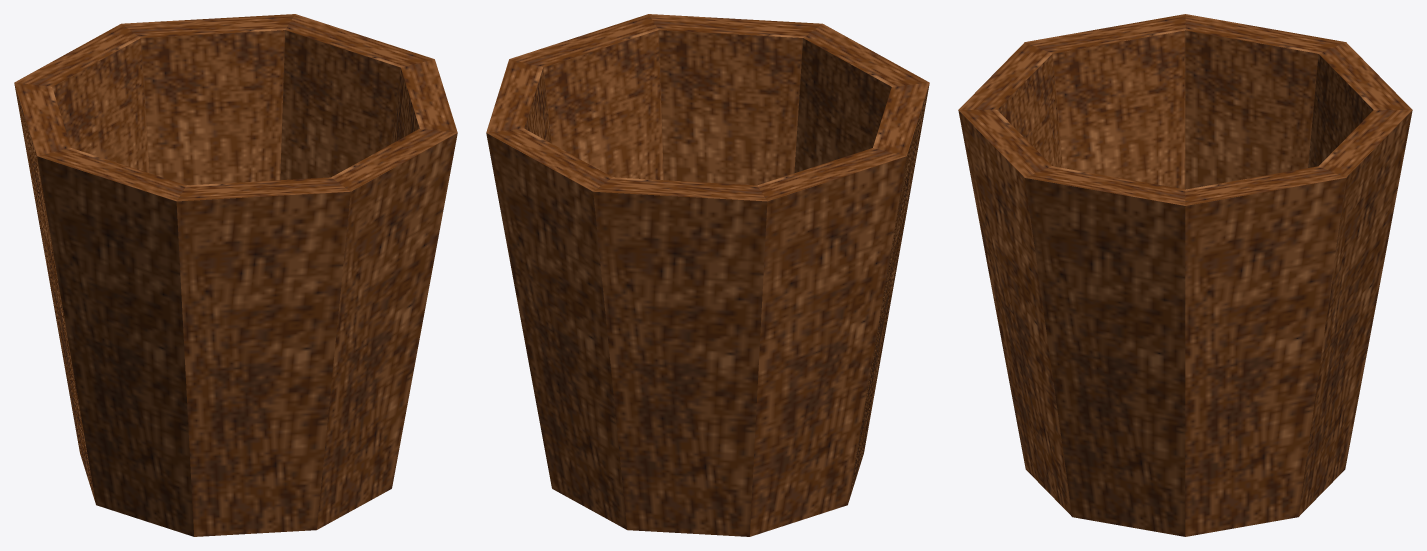
File: SM_Dungeon_Bucket_Wooden.fbx
3 renders of one model, left to right at view 1: azimuth 30°, elevation 25°; view 2: azimuth 150°, elevation 25°; view 3: azimuth 270°, elevation 25°, orthographic.
Visible parts, largest first — view 1: WoodenBucket.001; view 2: WoodenBucket.001; view 3: WoodenBucket.001.
Boxes of the visible parts, x1,y1,x2,y2 form: WoodenBucket.001: (14,14,457,536); WoodenBucket.001: (486,14,929,536); WoodenBucket.001: (958,14,1412,536).
Size of the model in its own units: 37.18 by 32.46 by 37.18.
